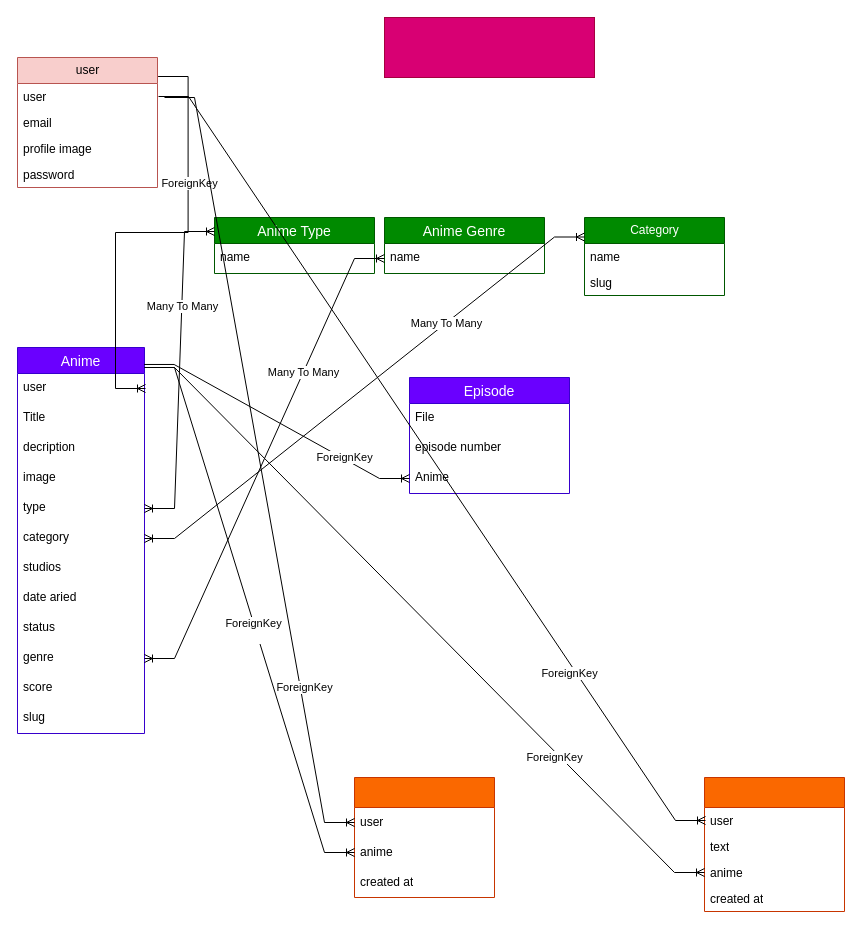
This 862x932 diagram has some shape labels left out. The shapes that lost their labels are listed below. From the top down, each one's box as (x1, y1, x2, y2) in pixels, then its label:
(384, 16, 594, 78): Models
(354, 776, 494, 898): rating
(704, 776, 844, 912): comment
